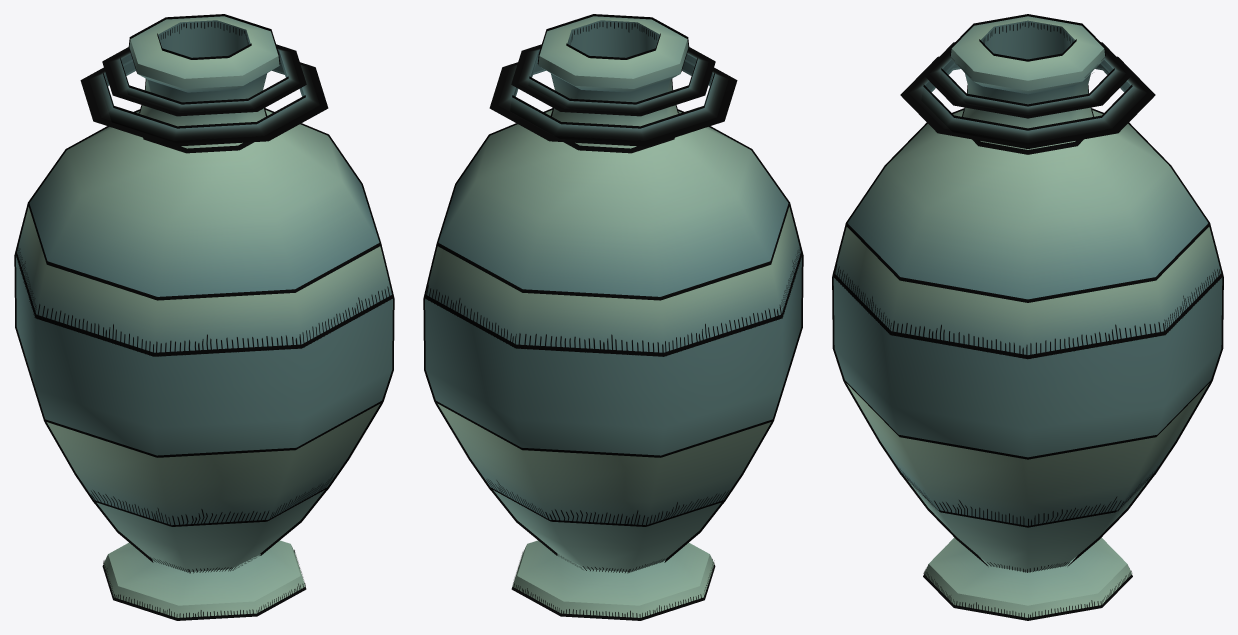
The model's file is Vase_Small.glb.
3 views of the same model, side by side, from view 1: azimuth 30°, elevation 25°; view 2: azimuth 150°, elevation 25°; view 3: azimuth 270°, elevation 25° (orthographic).
Parts seen in each view (by area): view 1: Vase_Small; view 2: Vase_Small; view 3: Vase_Small.
Part boxes in pixels (left/top/right/bottom): Vase_Small: left=14, top=14, right=394, bottom=620; Vase_Small: left=423, top=14, right=803, bottom=620; Vase_Small: left=832, top=14, right=1223, bottom=620.
Bounding box in the file's own units: 0.7234 × 1.09 × 0.7234.
3 materials, 2 textured.
